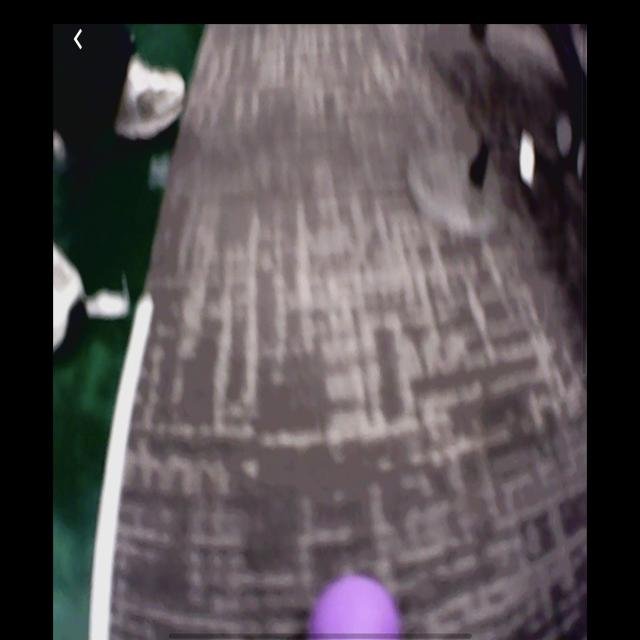ball: (313, 578, 404, 640)
